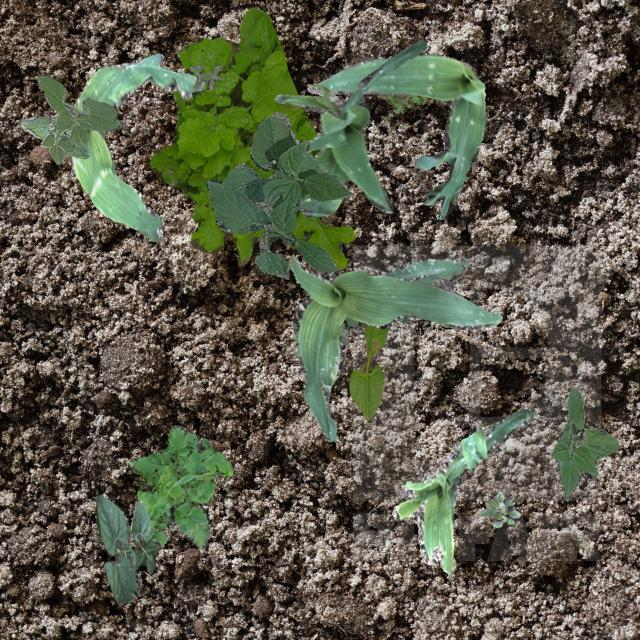crop: (288, 253, 501, 441), (316, 52, 486, 216), (272, 38, 426, 216), (70, 52, 204, 240), (206, 110, 350, 278), (391, 408, 533, 574), (19, 74, 122, 164), (550, 386, 618, 500), (94, 493, 140, 602), (349, 324, 387, 418), (119, 498, 160, 570)
weed: (148, 7, 354, 268), (128, 424, 232, 548), (374, 91, 444, 112), (480, 491, 520, 526), (188, 64, 220, 90)
